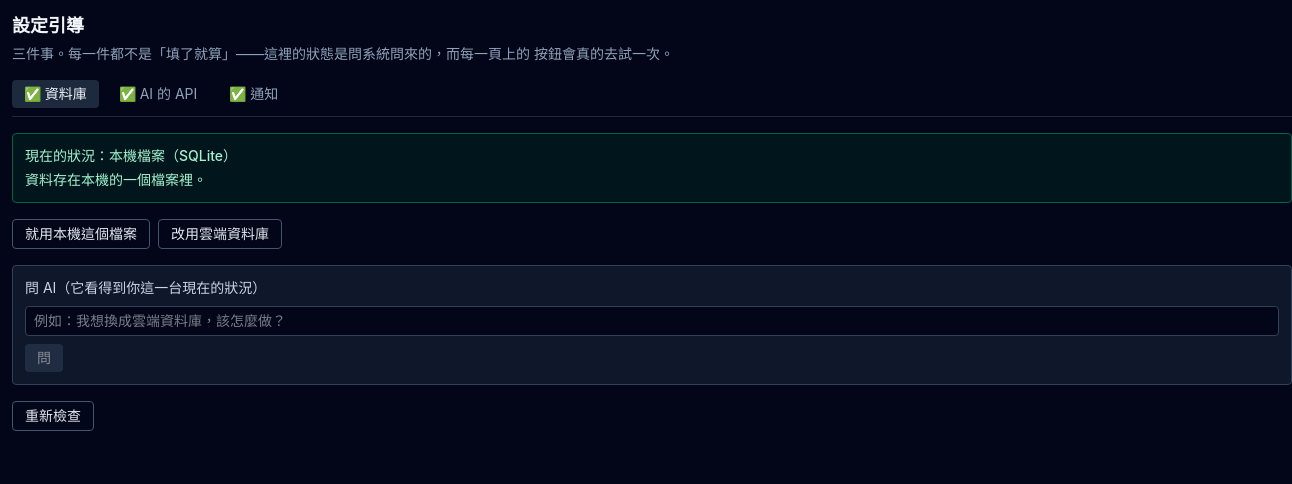
Scenario: 設定引導（分頁） › 選「就用本機」就不要再囉唆，只提醒備份
Click the button "就用本機這個檔案": (81, 234) x1=12 y1=219 x2=150 y2=249
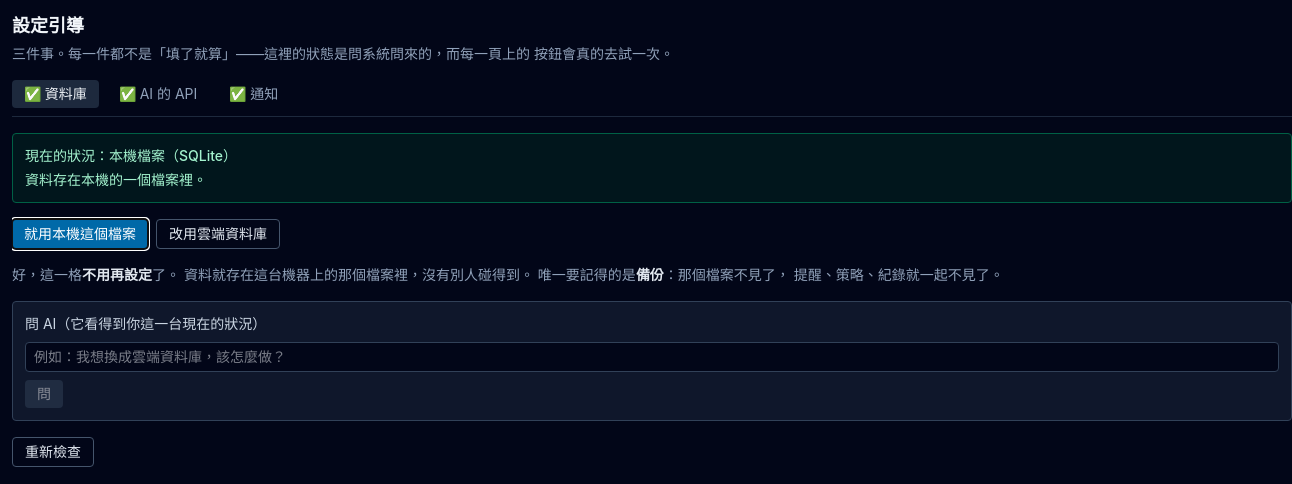
Now the text "不用再設定" is shown, box x1=82 y1=266 x2=152 y2=283
Now the text "備份" is shown, box x1=636 y1=266 x2=664 y2=283
